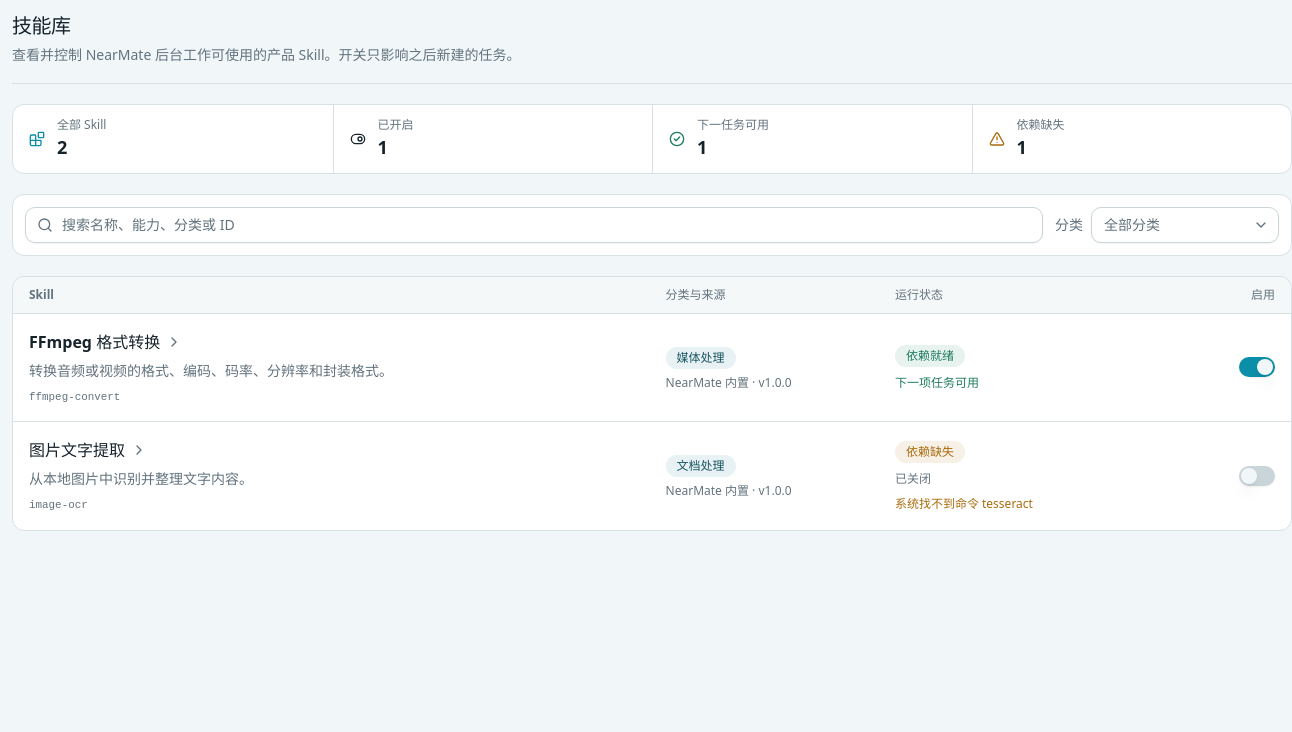
Test: skill library page › 展示汇总并支持搜索和分类筛选
The image size is (1292, 732).
expect the text "FFmpeg 格式转换" is shown: met, box left=29, top=330, right=160, bottom=354
expect the text "图片文字提取" is shown: met, box left=29, top=438, right=125, bottom=462
Type "目标格式或编码要求" into the search field with placeholder "搜索名称、能力、分类或 ID" at (534, 225), box left=25, top=207, right=1043, bottom=243
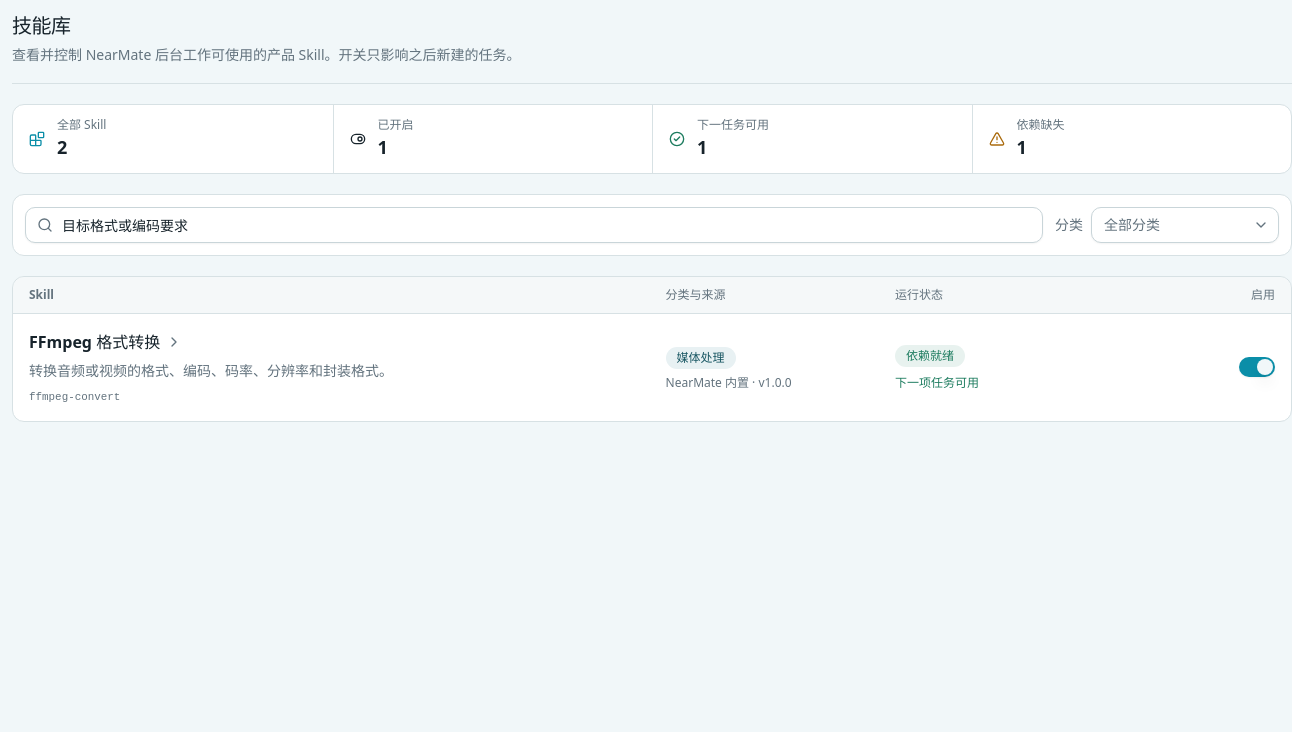
expect the text "FFmpeg 格式转换" is shown: met, box left=29, top=330, right=160, bottom=354
expect the button "图片文字提取" is gone: met
Replace the text in the search field with placeholder "搜索名称、能力、分类或 ID" with "图片" at (534, 225), box left=25, top=207, right=1043, bottom=243
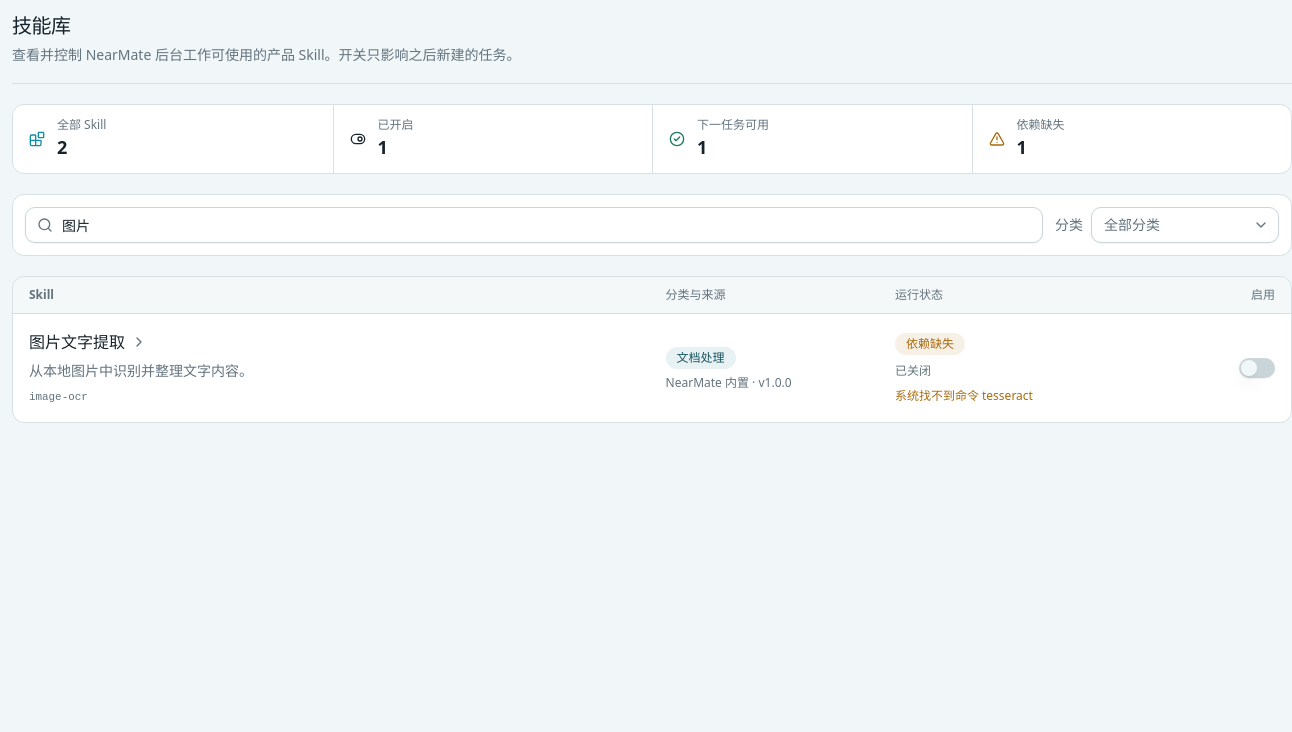
expect the button "FFmpeg 格式转换" is gone: met
expect the text "图片文字提取" is shown: met, box left=29, top=330, right=125, bottom=354
Clear the search field with placeholder "搜索名称、能力、分类或 ID" at (534, 225), box left=25, top=207, right=1043, bottom=243
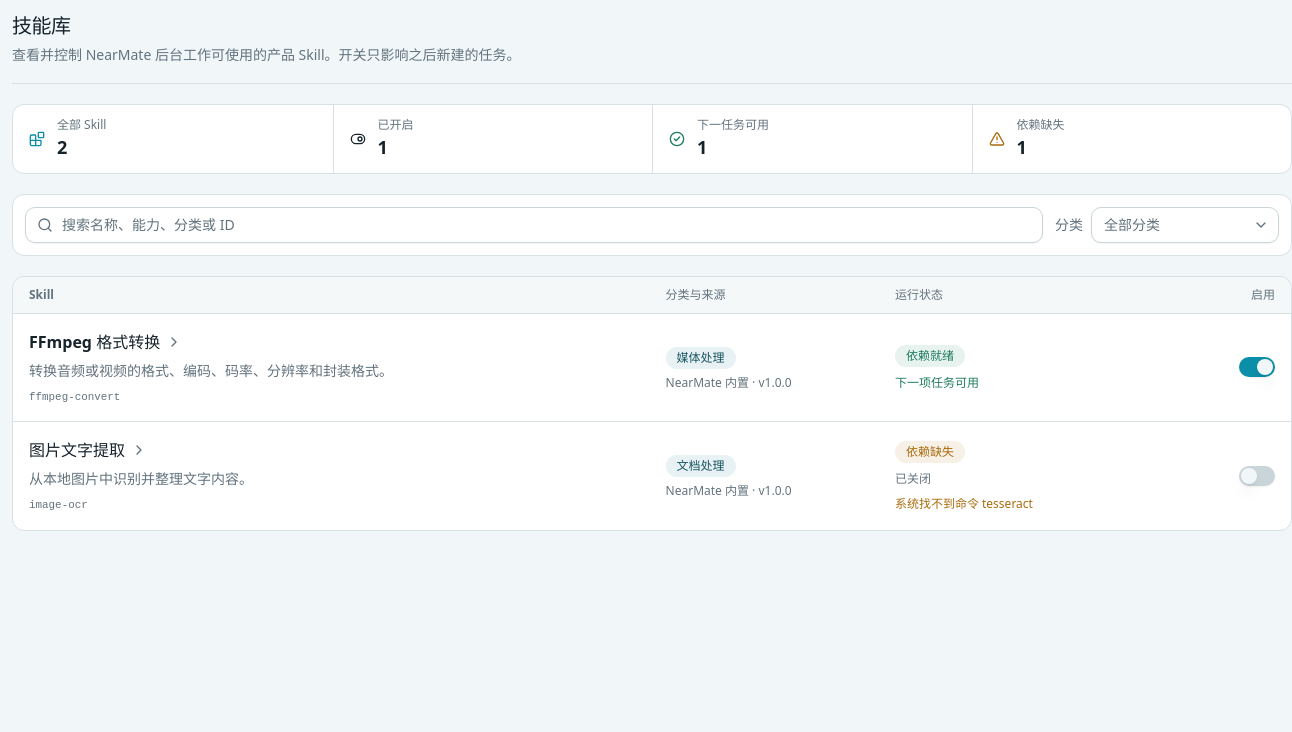
Select "媒体处理" in the dropdown named "Skill 分类" at (1185, 225), box left=1091, top=207, right=1279, bottom=243
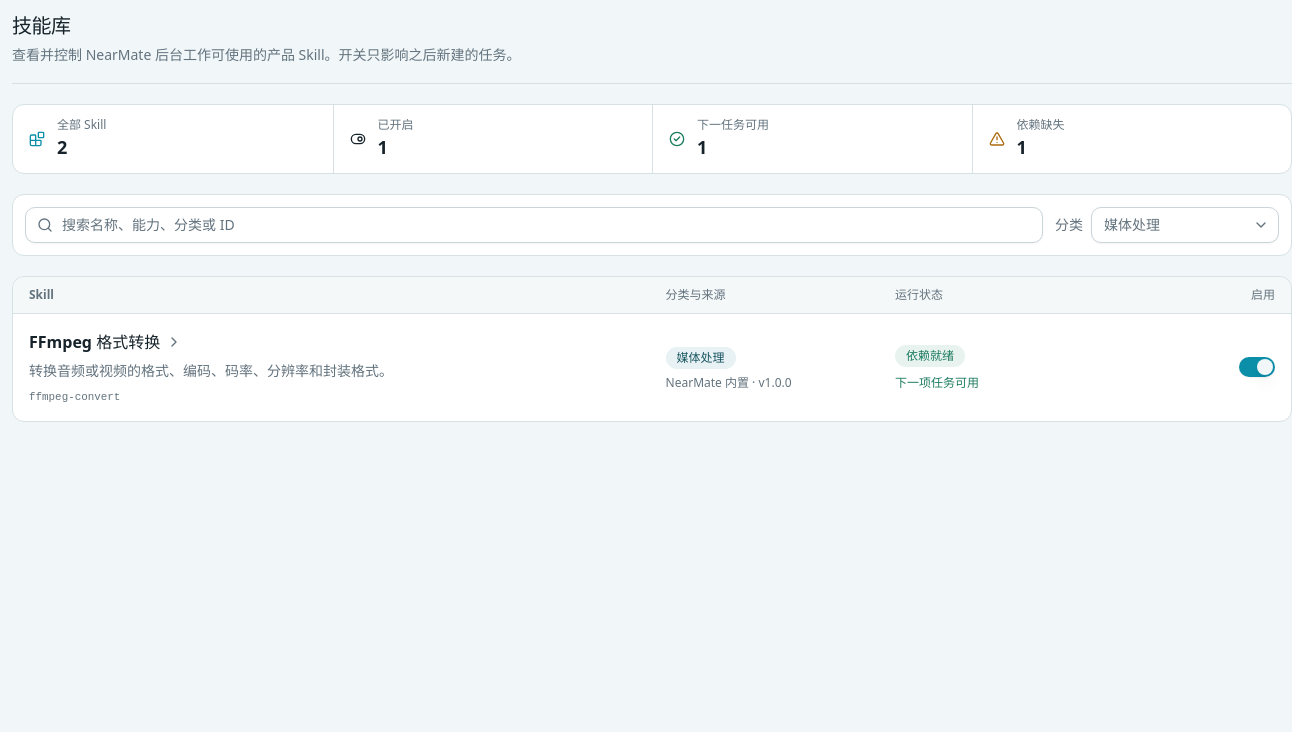
expect the text "FFmpeg 格式转换" is shown: met, box left=29, top=330, right=160, bottom=354
expect the button "图片文字提取" is gone: met
